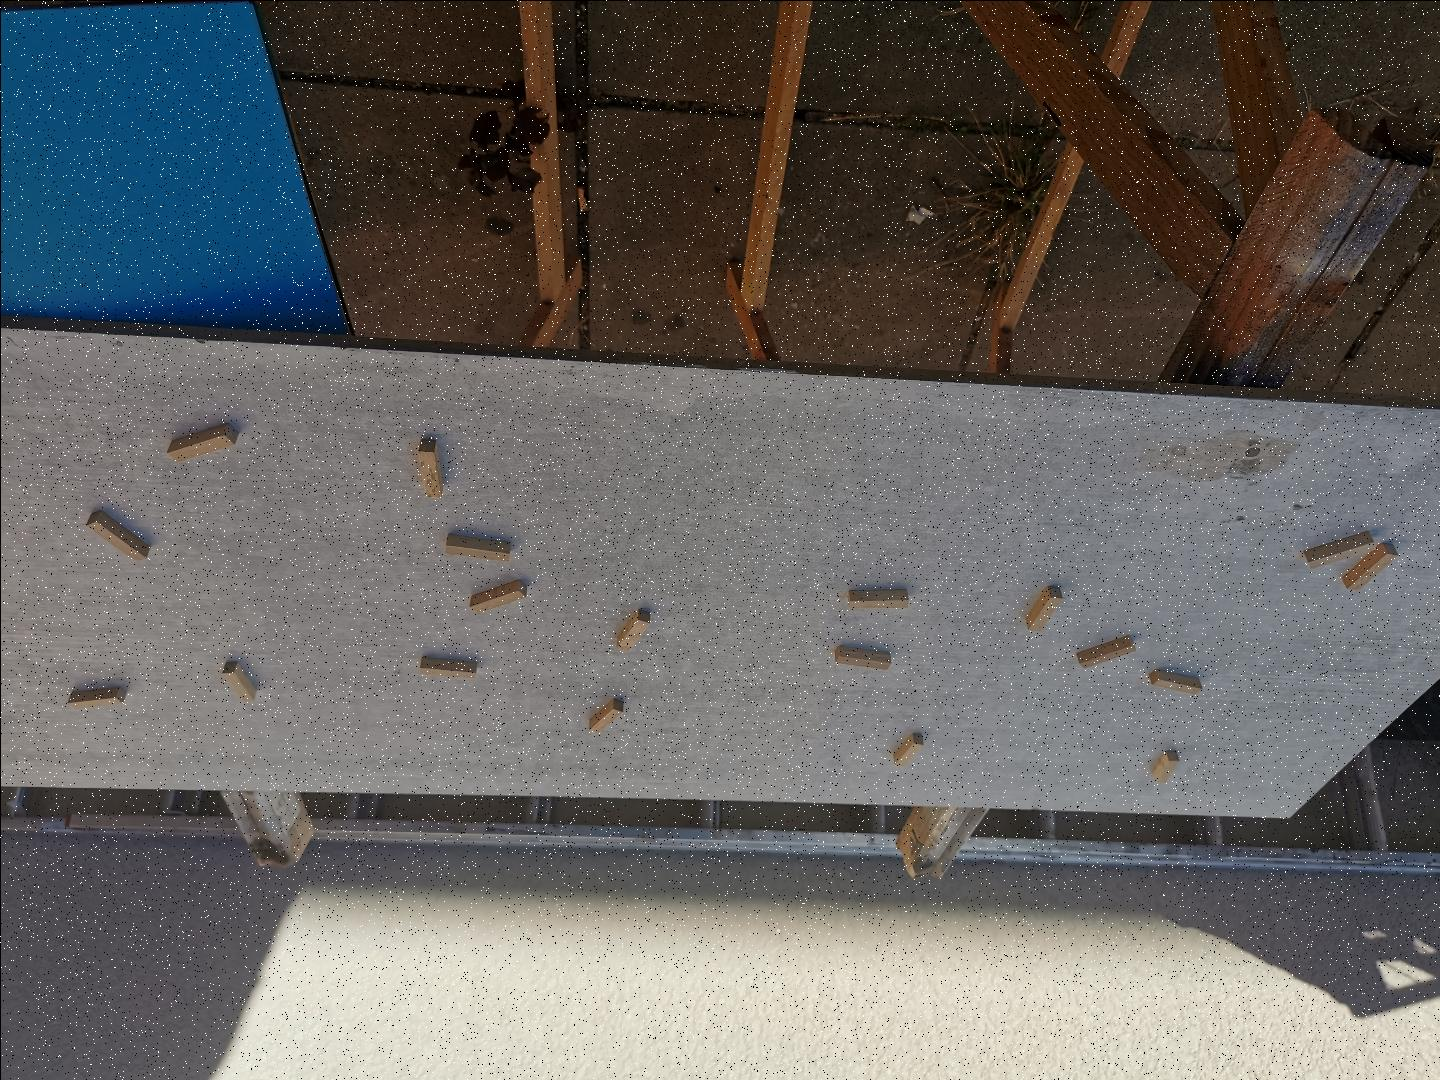jenga: (87, 512, 149, 559), (166, 422, 236, 462), (1341, 542, 1398, 591), (1302, 532, 1375, 568), (1075, 635, 1134, 667), (469, 580, 526, 613), (444, 532, 509, 559), (1026, 585, 1060, 630), (416, 439, 441, 498), (616, 608, 650, 650), (832, 644, 889, 669), (1147, 669, 1201, 694), (222, 661, 256, 700), (847, 588, 908, 608), (420, 656, 475, 677), (587, 698, 621, 732), (68, 686, 124, 706), (891, 732, 923, 765), (1151, 751, 1178, 782)
